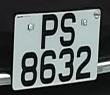2: (74, 45, 93, 82)
3: (56, 49, 76, 84)
6: (39, 48, 58, 87)
8: (18, 49, 39, 88)
P: (38, 12, 59, 51)
S: (57, 11, 78, 48)
